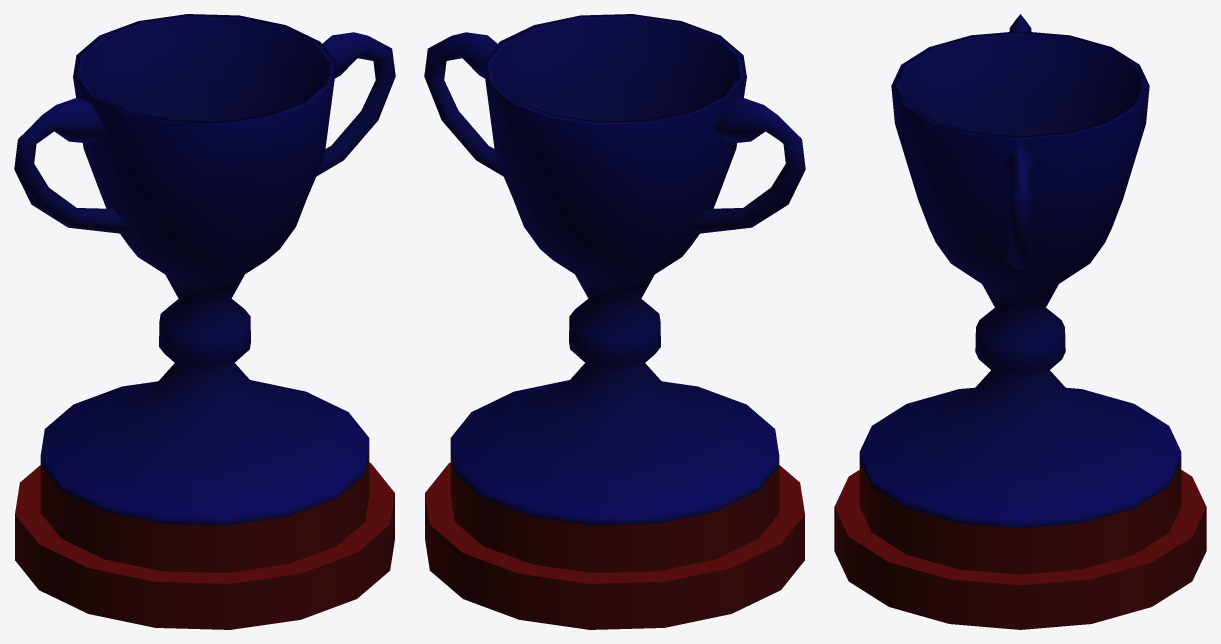
File: Trophy.glb
The picture shows the model from 3 angles, left to right: view 1: azimuth 30°, elevation 25°; view 2: azimuth 150°, elevation 25°; view 3: azimuth 270°, elevation 25°; orthographic projection. The views are drawn at different scales.
Parts seen in each view (by area): view 1: Trophy; view 2: Trophy; view 3: Trophy.
Part boxes in pixels (left/top/right/bottom): Trophy: left=14, top=14, right=395, bottom=629; Trophy: left=424, top=14, right=805, bottom=629; Trophy: left=834, top=14, right=1206, bottom=629.
Bounding box in the file's own units: 2.03 × 2.46 × 1.77.
